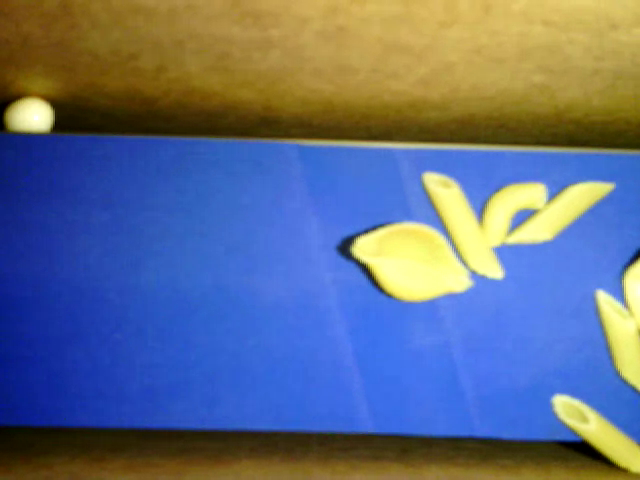elbow: (481, 181, 550, 248)
penne: (421, 170, 505, 278), (550, 393, 639, 473), (506, 182, 616, 244), (593, 288, 639, 391)
shell: (349, 221, 473, 300)
